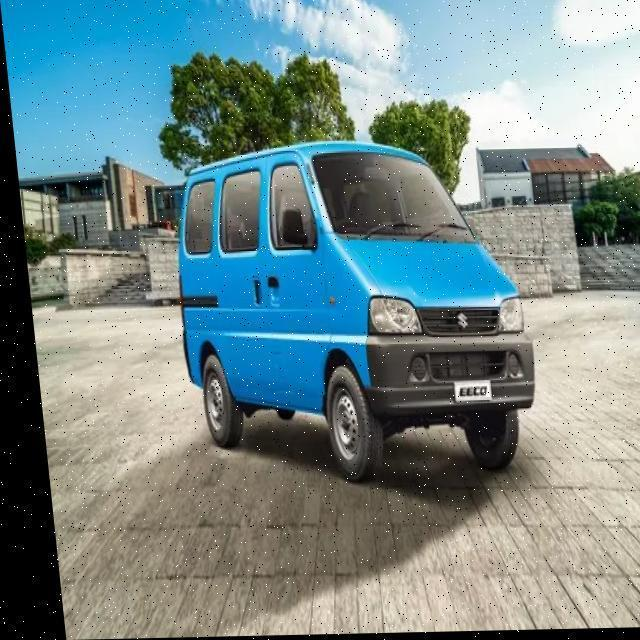Ambulance: (25, 286, 640, 637), (155, 134, 538, 490)
